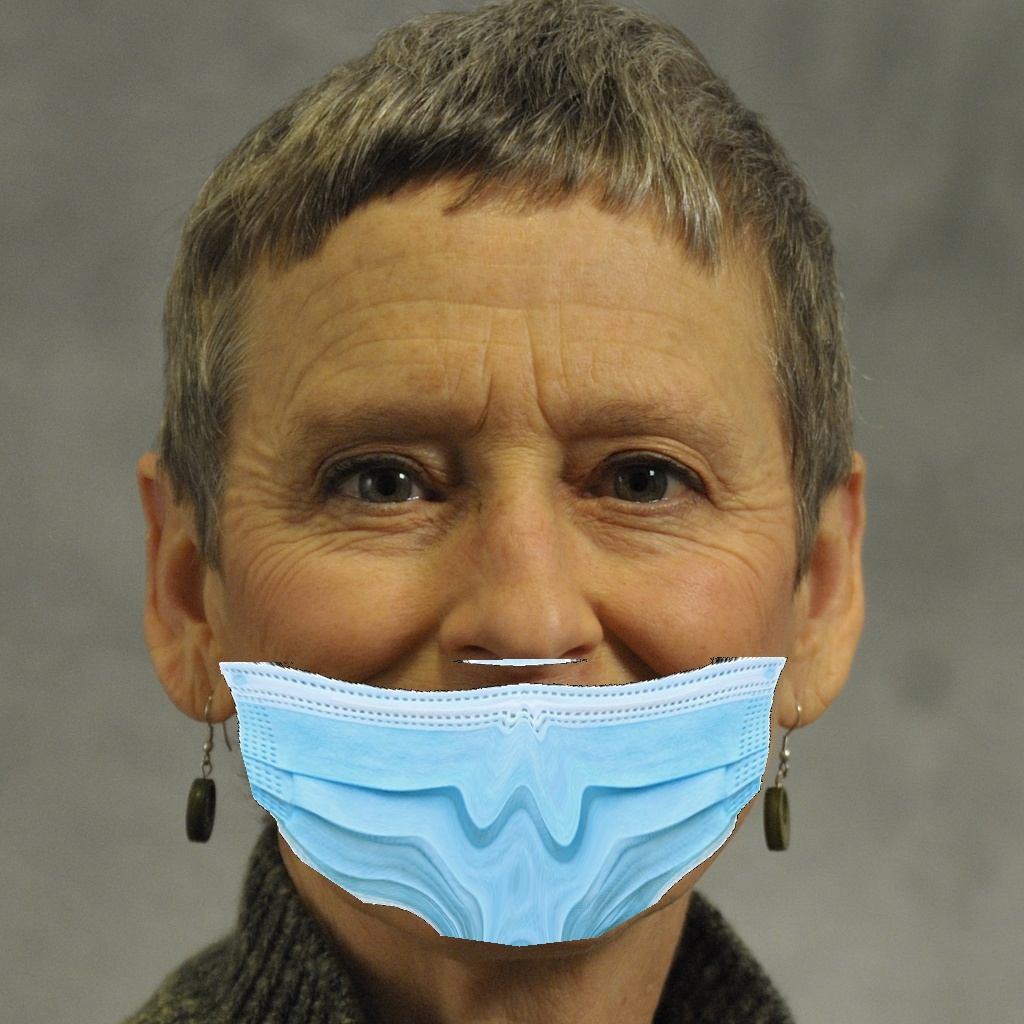mask_weared_incorrect: (253, 383, 777, 960)
